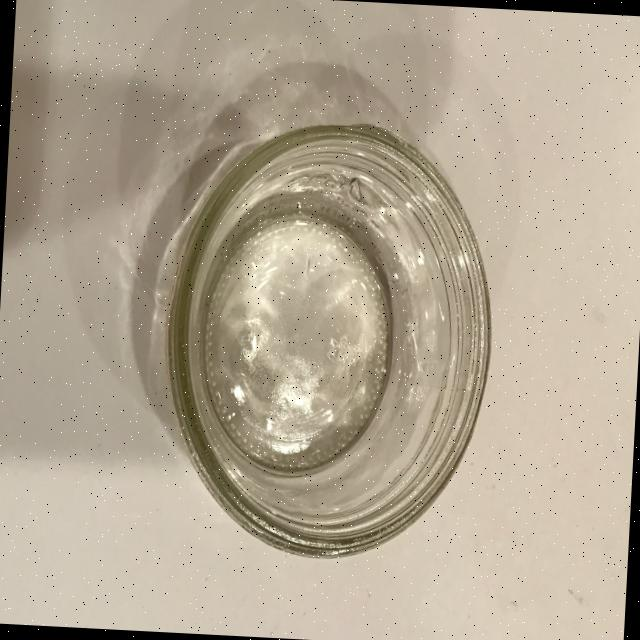glass: (153, 111, 503, 567)
